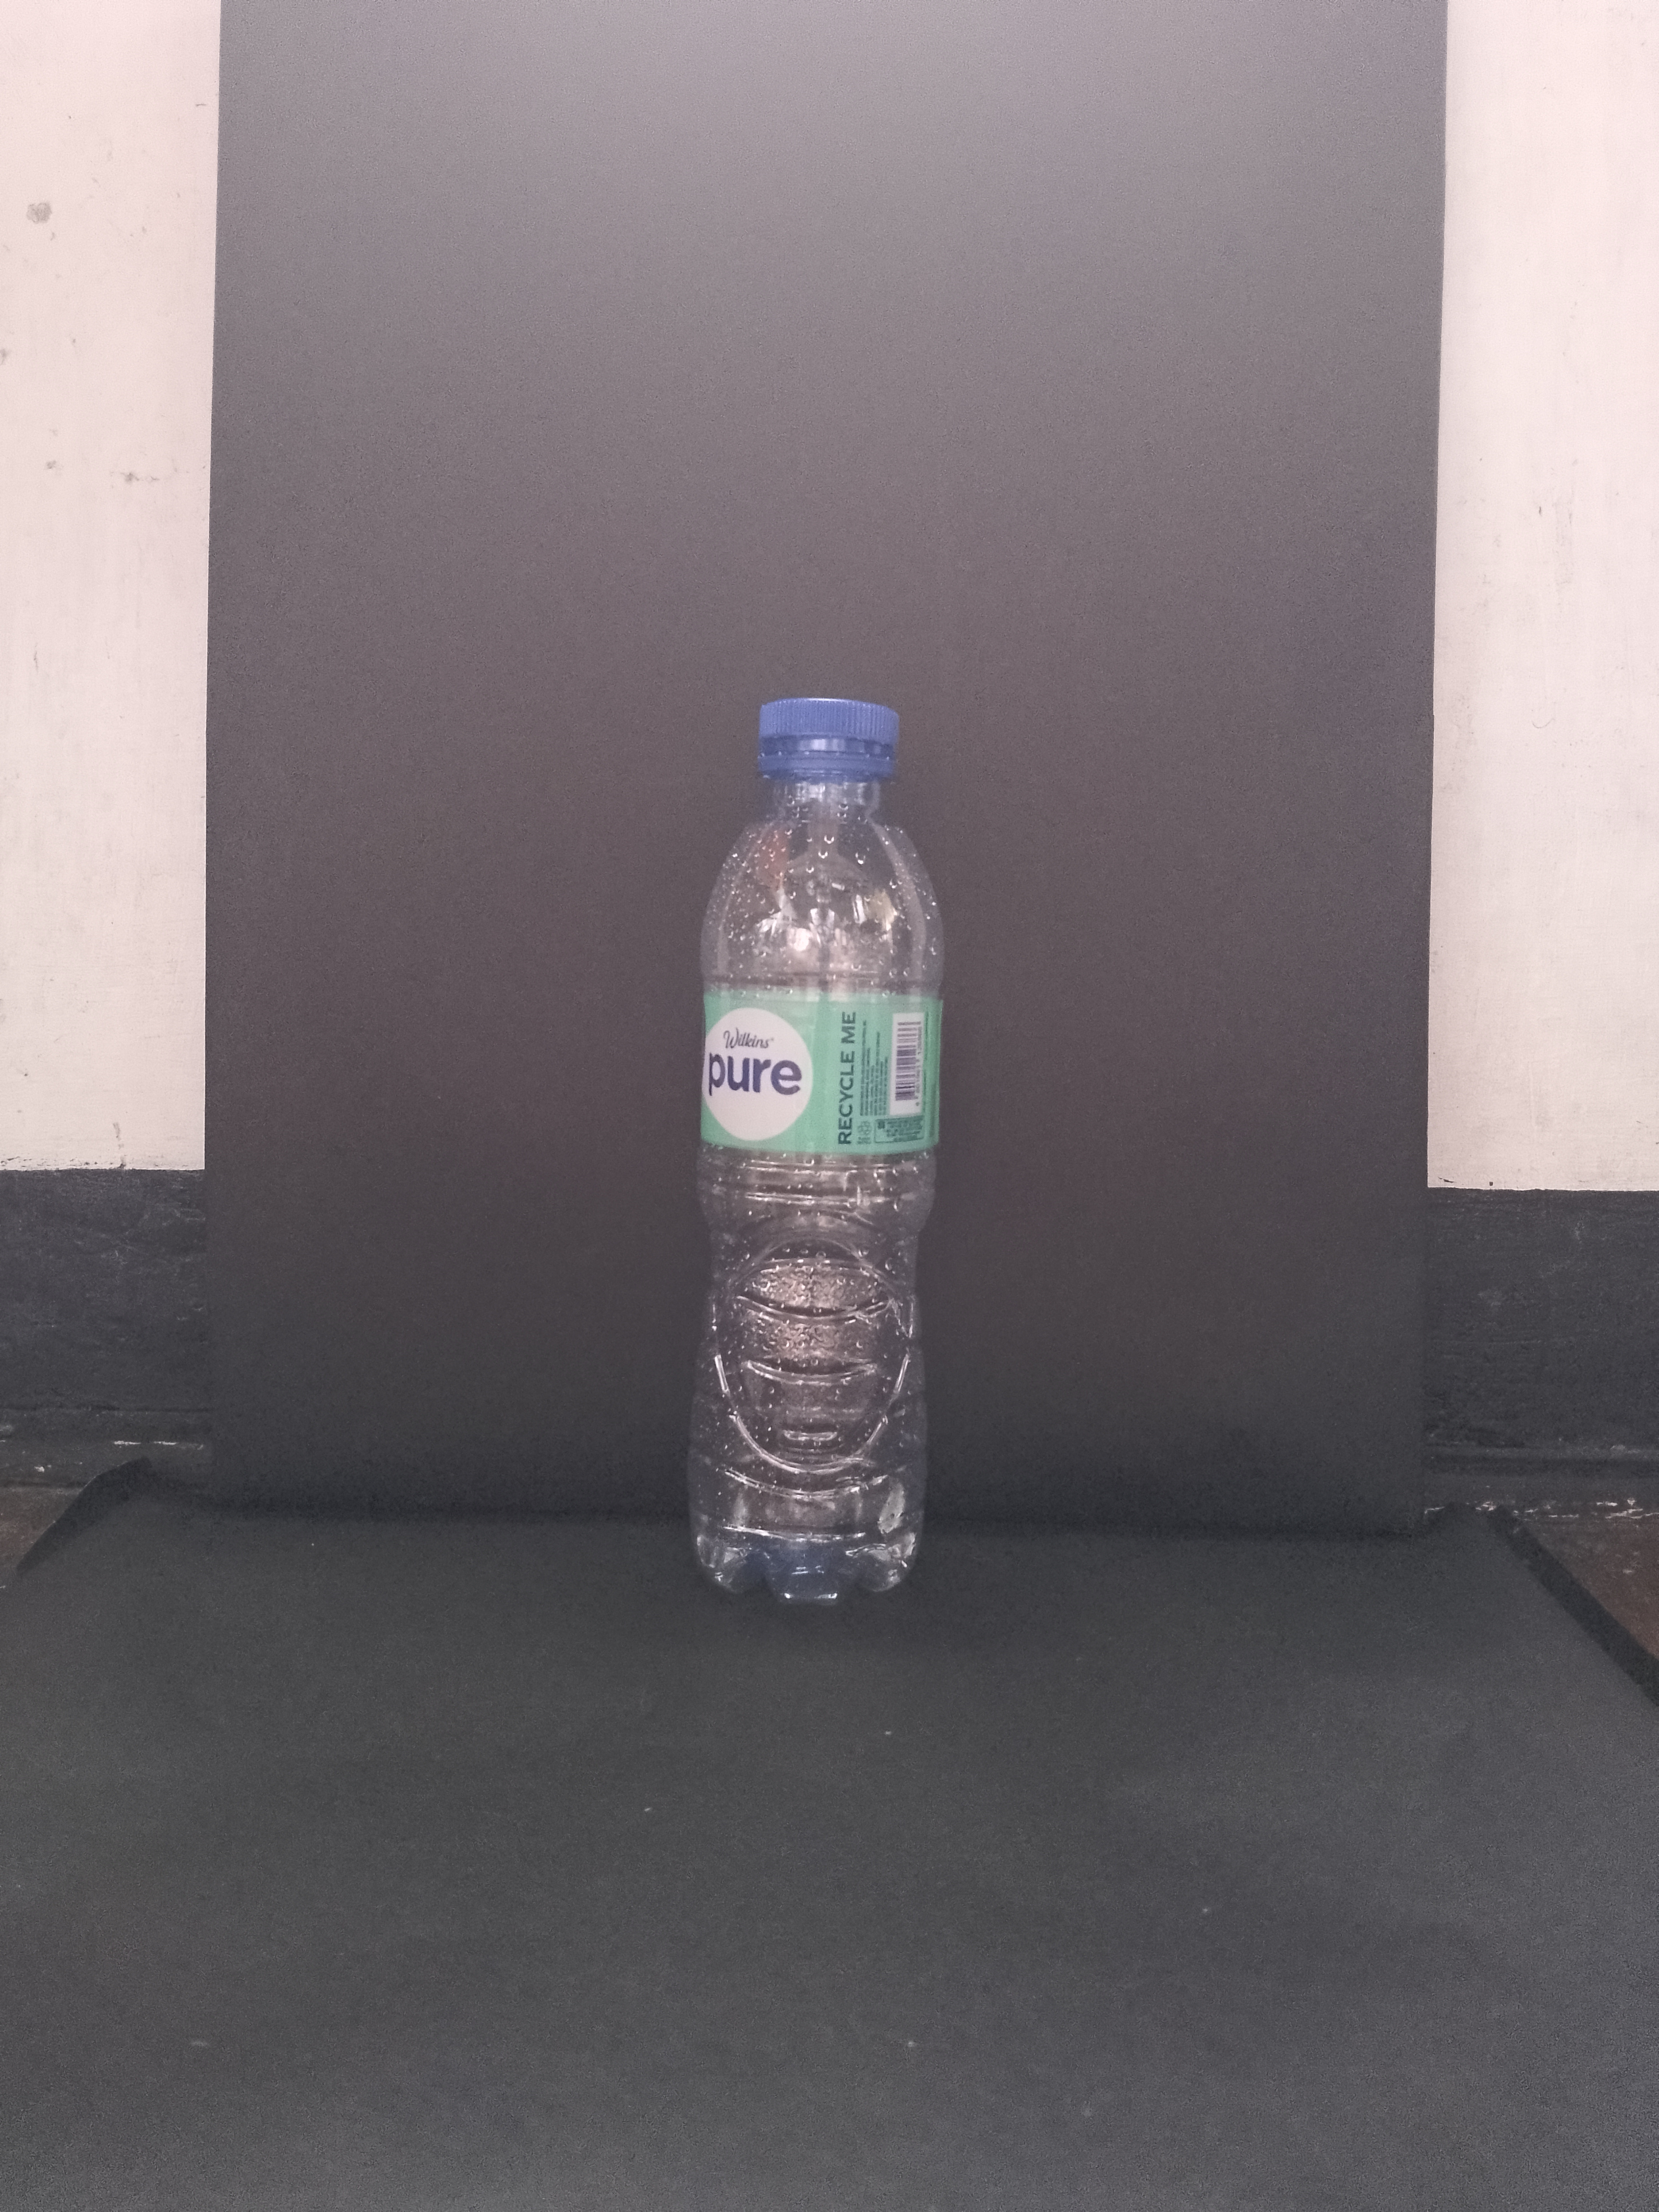plastic bottle: (674, 686, 955, 1618)
